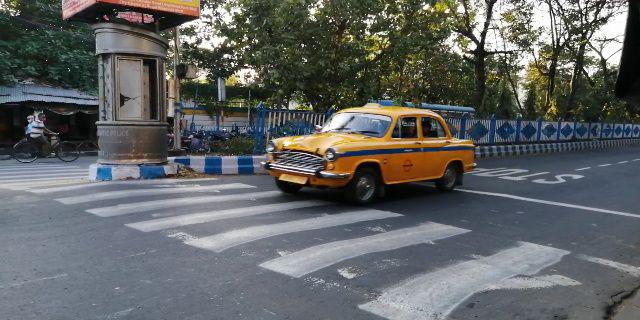Car: (261, 88, 481, 204)
Cycle: (9, 107, 82, 167)
